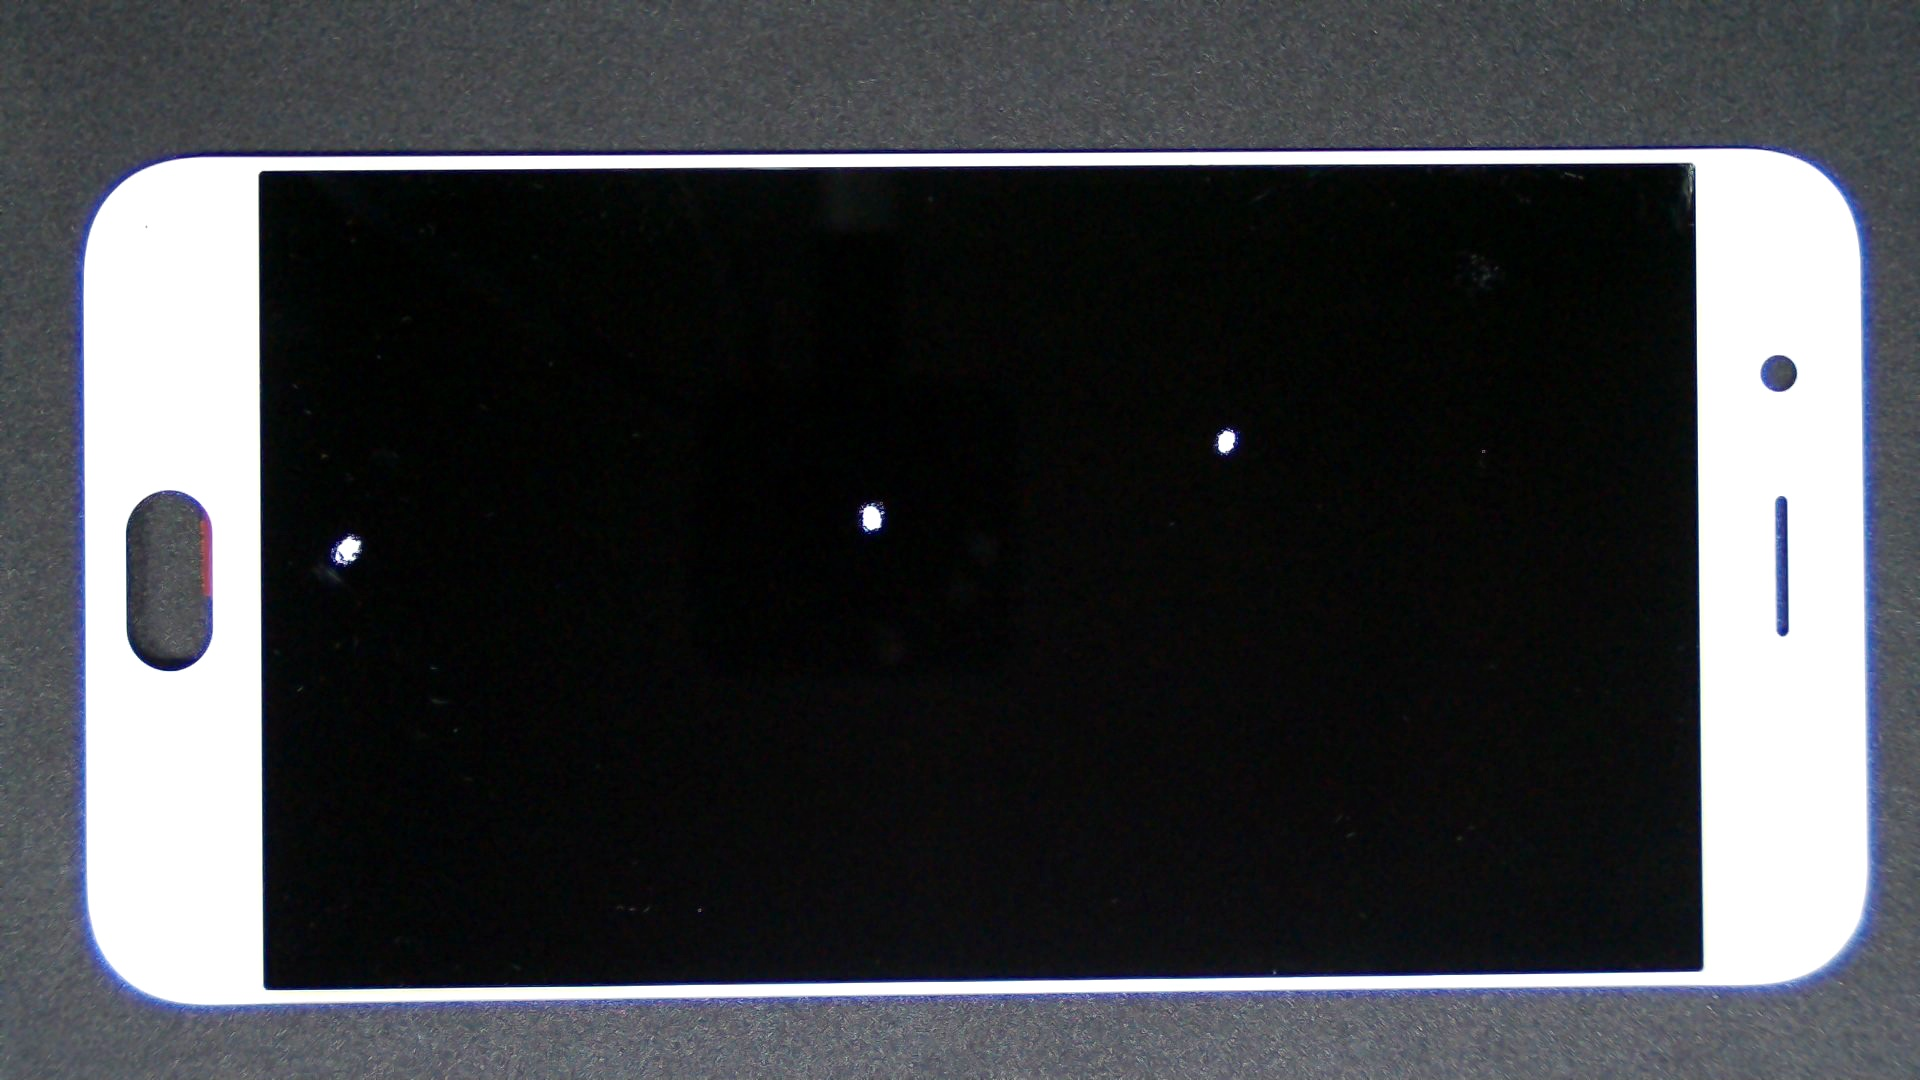oil: (613, 212, 1837, 640), (435, 249, 1304, 750), (174, 264, 517, 798)
